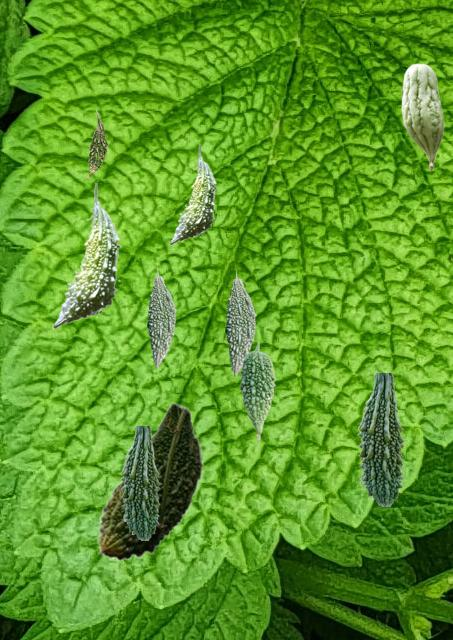ampalaya: (97, 402, 203, 560), (52, 183, 120, 328), (357, 373, 403, 505), (169, 144, 216, 244), (401, 63, 443, 169), (120, 426, 159, 539), (239, 341, 274, 441), (225, 269, 255, 375), (147, 267, 175, 367), (85, 109, 107, 177)
